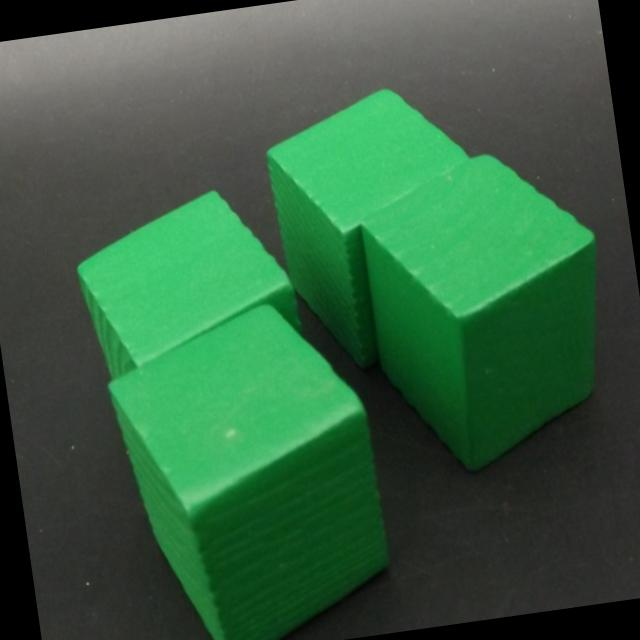green cube: (106, 301, 391, 640), (360, 151, 596, 476), (266, 89, 471, 371), (76, 189, 301, 382)
